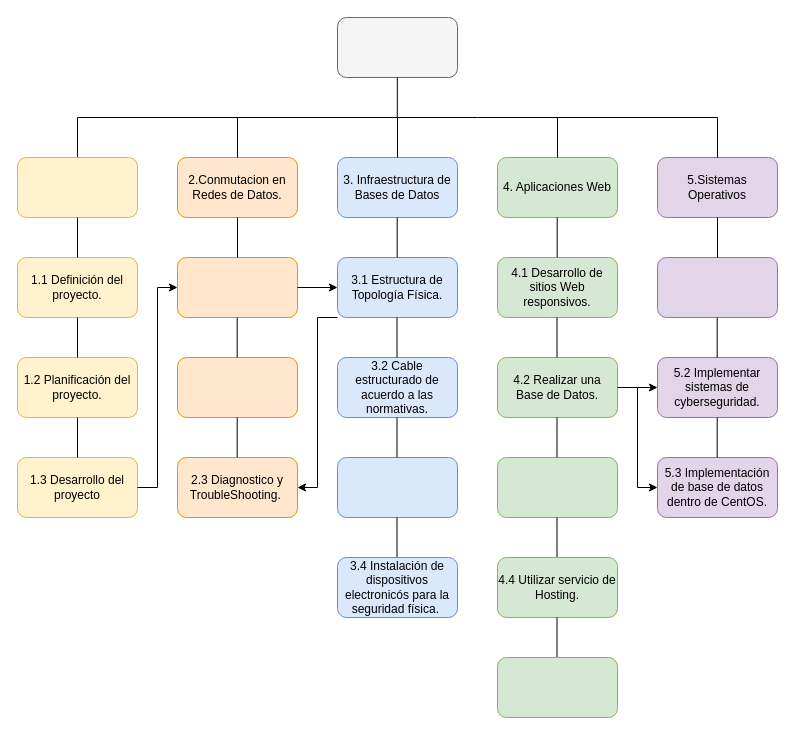
The diagram is 795 pixels wide and 735 high, and some of its shapes have lost their labels. Each missing label, with the centre of its shape:
1.Integradora: (x=77, y=187)
2.1 Implementación de protocolos VTP,DTP y STP.: (x=237, y=287)
2.2 Realizar configuración EIGRP de IPv4.: (x=237, y=387)
3.3 Implementación de sistemas eléctricos de acuerdo a la normativa.: (x=397, y=487)
4.3 Desarrollar pagina Web que implemente el uso de sesiones.: (x=557, y=487)
4.5 Realizar la publicación de la Aplicación Web.: (x=557, y=687)
5.1Implementar servidores dentro de un SO a base de linux.: (x=717, y=287)
Proyecto "Renta de Vehículos": (x=397, y=47)
